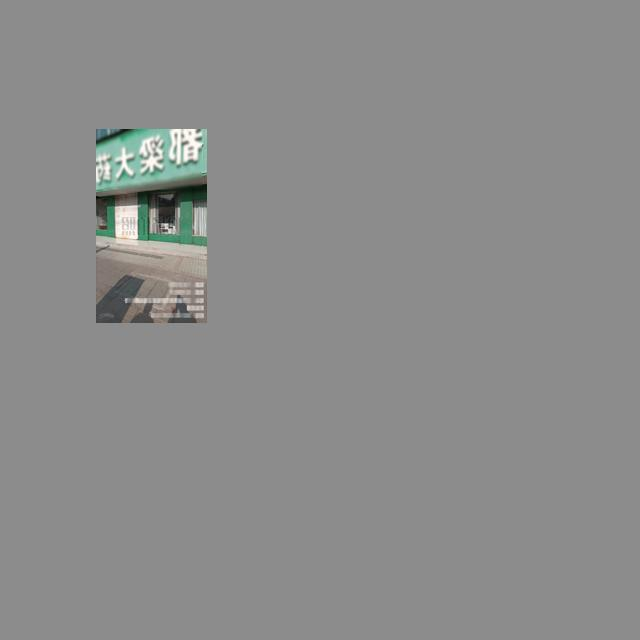good: (118, 273, 172, 307)
